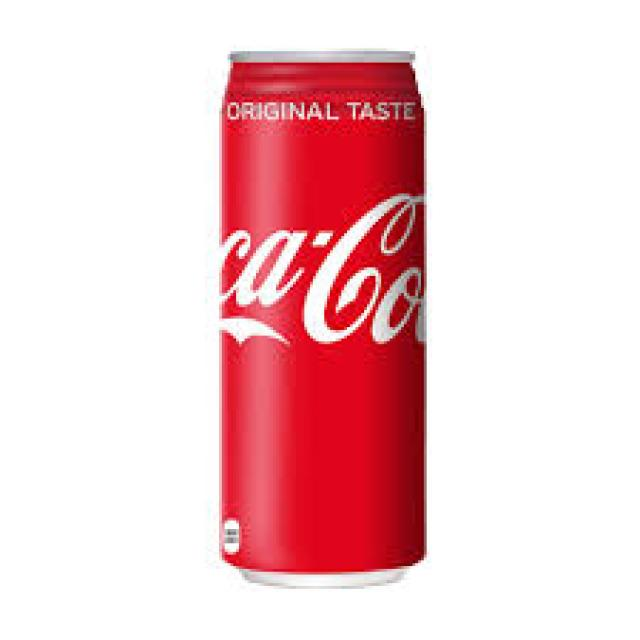aluminum_can: (222, 54, 427, 585)
